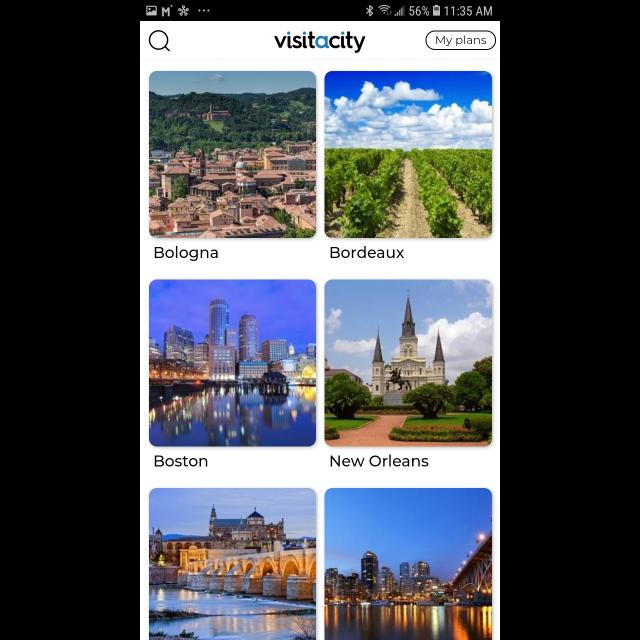icon: (149, 30, 171, 52)
image: (324, 279, 492, 446), (324, 72, 492, 238), (150, 279, 316, 446), (150, 72, 316, 238), (324, 488, 492, 640), (150, 488, 316, 640), (274, 32, 366, 54)
text: (331, 454, 429, 466), (154, 246, 218, 262), (332, 246, 404, 258), (156, 456, 208, 466)
textbutton: (424, 31, 496, 51)
uppertaskbar: (140, 1, 500, 22)
